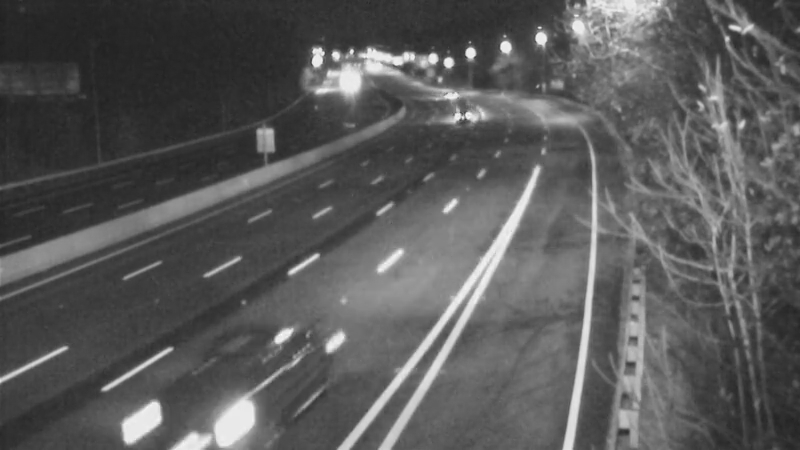vehicle: (168, 345, 278, 450), (433, 68, 483, 118), (435, 93, 485, 143), (324, 57, 374, 107)
